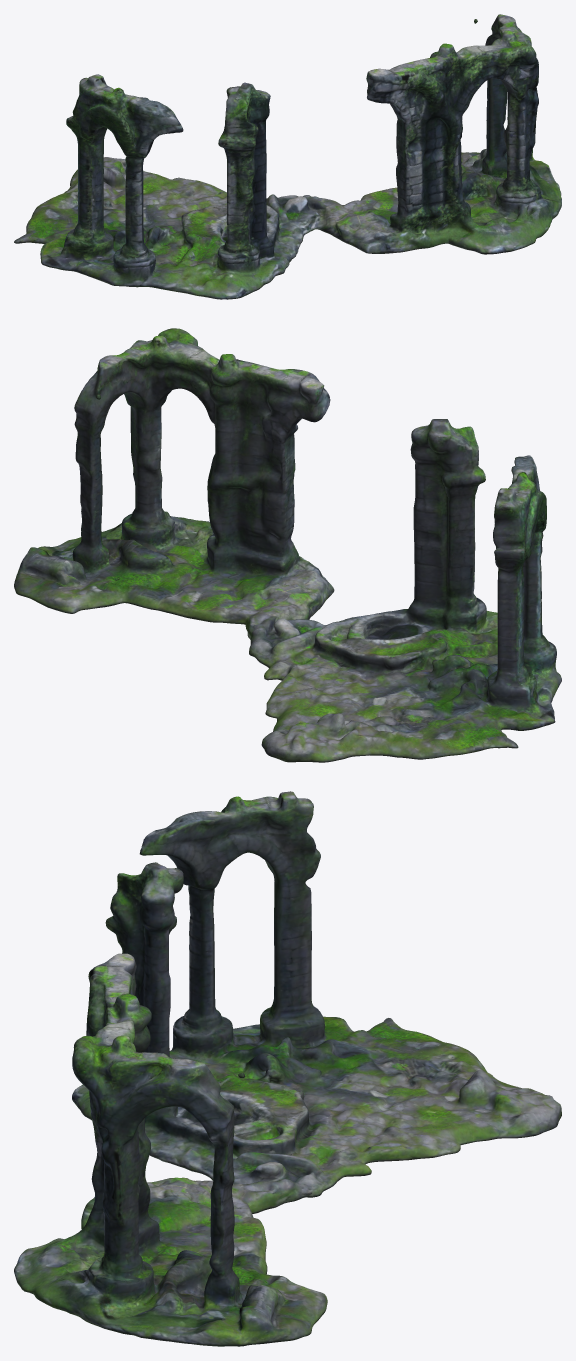
The model's file is scatter_09.glb.
The picture shows the model from 3 angles, top to bottom: view 1: azimuth 30°, elevation 25°; view 2: azimuth 150°, elevation 25°; view 3: azimuth 270°, elevation 25°; orthographic projection. The views are drawn at different scales.
Size of the model in its own units: 1.99 by 0.7401 by 1.41.
Materials: 1 (1 with a texture image).
